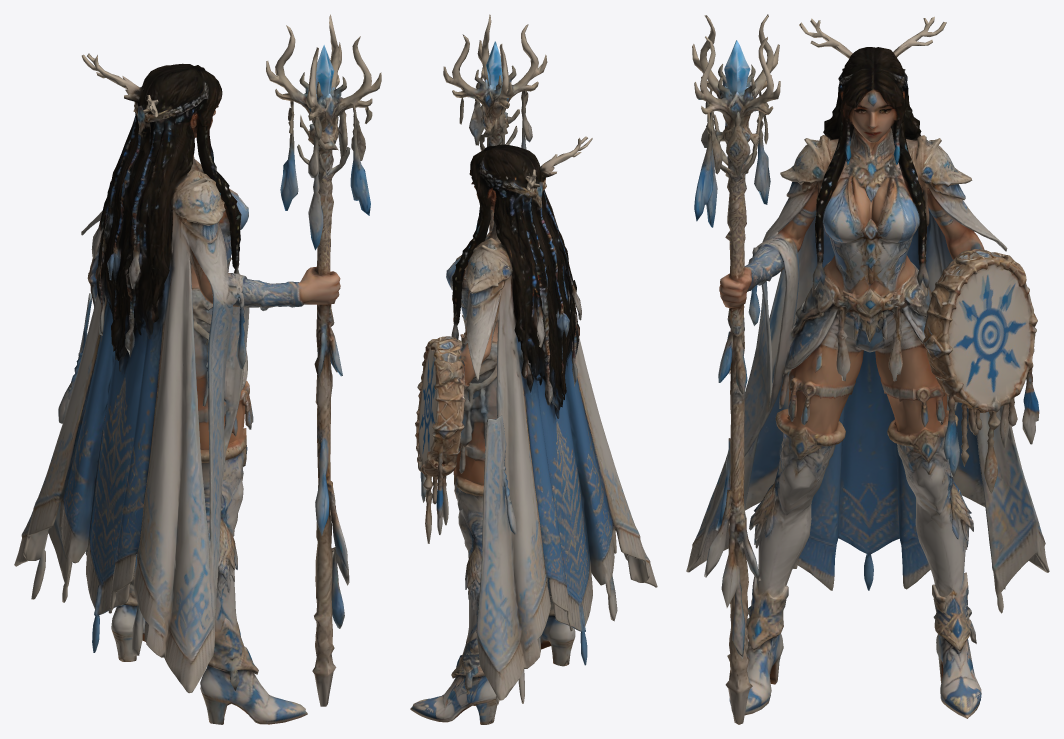
The model's file is drumcaller2_T8-tripo.glb.
3 renders of one model, left to right at view 1: azimuth 30°, elevation 25°; view 2: azimuth 150°, elevation 25°; view 3: azimuth 270°, elevation 25°, orthographic. The views are drawn at different scales.
Parts seen in each view (by area): view 1: tripo_node_b7e1774f-4d4b-4baa-8d4e-1f3b815ad72e; view 2: tripo_node_b7e1774f-4d4b-4baa-8d4e-1f3b815ad72e; view 3: tripo_node_b7e1774f-4d4b-4baa-8d4e-1f3b815ad72e.
Part boxes in pixels (x1,y1,x2,y2): tripo_node_b7e1774f-4d4b-4baa-8d4e-1f3b815ad72e: (14, 14, 381, 724); tripo_node_b7e1774f-4d4b-4baa-8d4e-1f3b815ad72e: (410, 14, 657, 724); tripo_node_b7e1774f-4d4b-4baa-8d4e-1f3b815ad72e: (686, 14, 1049, 724).
Bounding box in the file's own units: 0.3274 × 1 × 0.468.
Materials: 1 (1 with a texture image).
